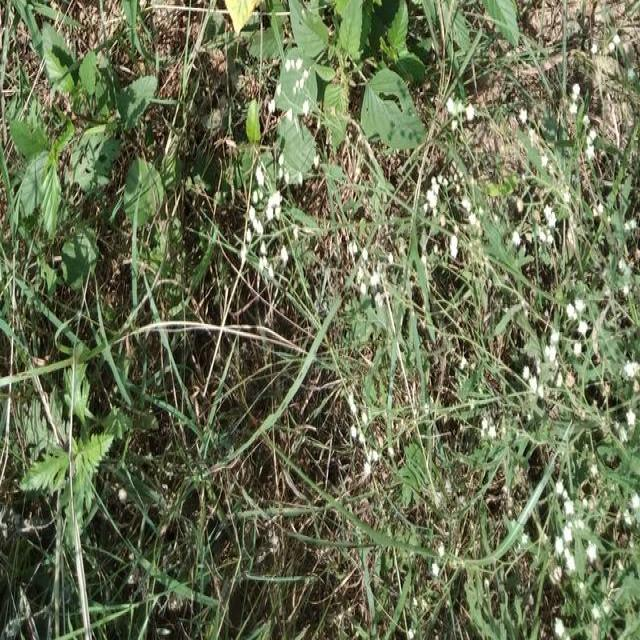weed: (426, 105, 639, 640), (10, 18, 155, 231), (360, 227, 431, 558), (272, 4, 423, 151), (23, 348, 116, 540), (239, 167, 299, 299)
